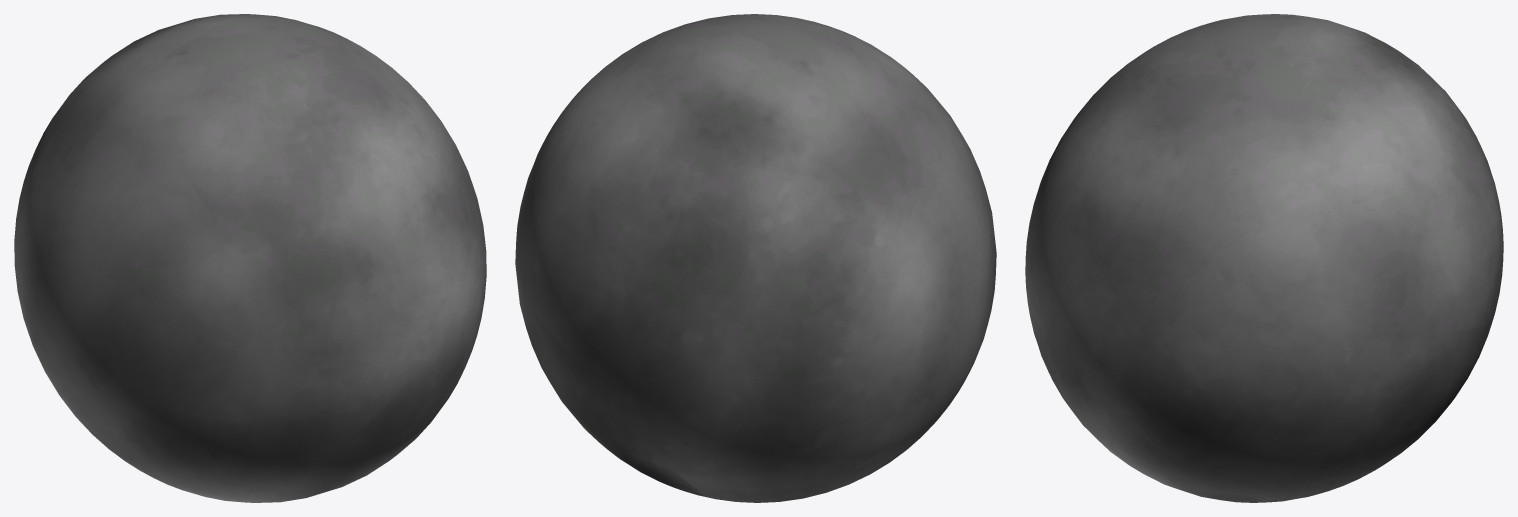
File: moon.gltf
3 renders of one model, left to right at view 1: azimuth 30°, elevation 25°; view 2: azimuth 150°, elevation 25°; view 3: azimuth 270°, elevation 25°, orthographic. The views are drawn at different scales.
Visible parts, largest first — view 1: node_id31; view 2: node_id31; view 3: node_id31.
Part boxes in pixels (<box>): node_id31: <box>14,14,486,502</box>; node_id31: <box>515,14,996,502</box>; node_id31: <box>1025,14,1503,502</box>.
Bounding box in the file's own units: 0.3208 × 0.3326 × 0.3246.
1 material, 1 textured.
